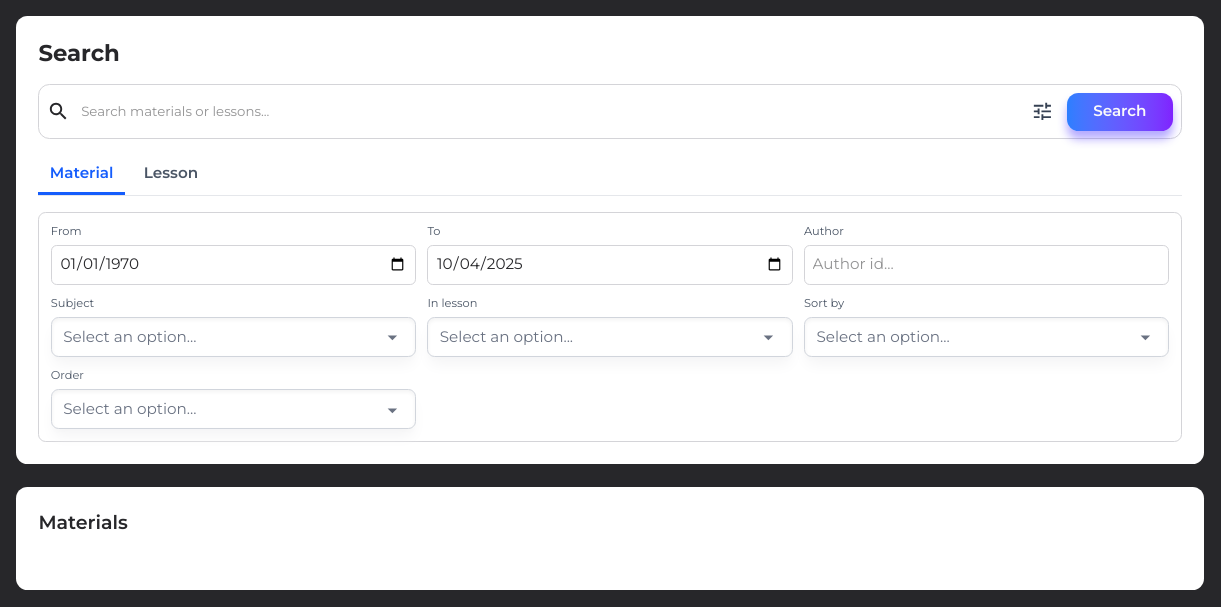
it: SearchPage Component › Filter Functionality › should toggle filters visibility
The image size is (1221, 607).
Check: the text "From" is shown, box [51,224,82,238]
Hide filters
Click the button named "toggle filters". click: [1042, 112]
box: [1025,94,1059,129]
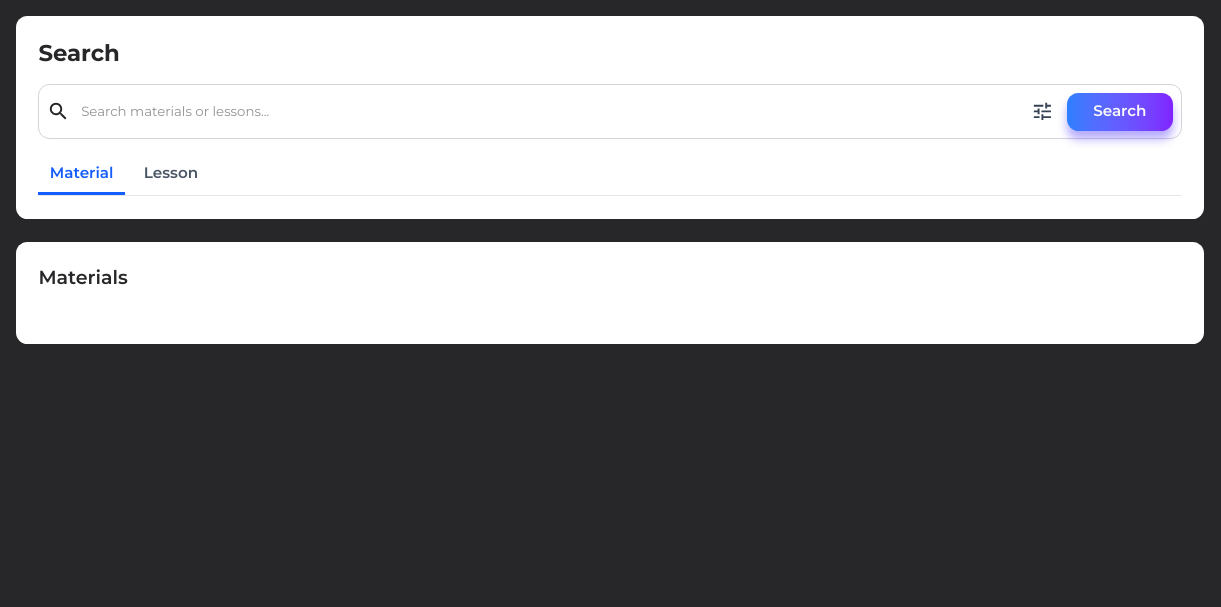
Check: the text "From" is gone
Show filters again
Click the button named "toggle filters". click: [1042, 112]
box: [1025,94,1059,129]
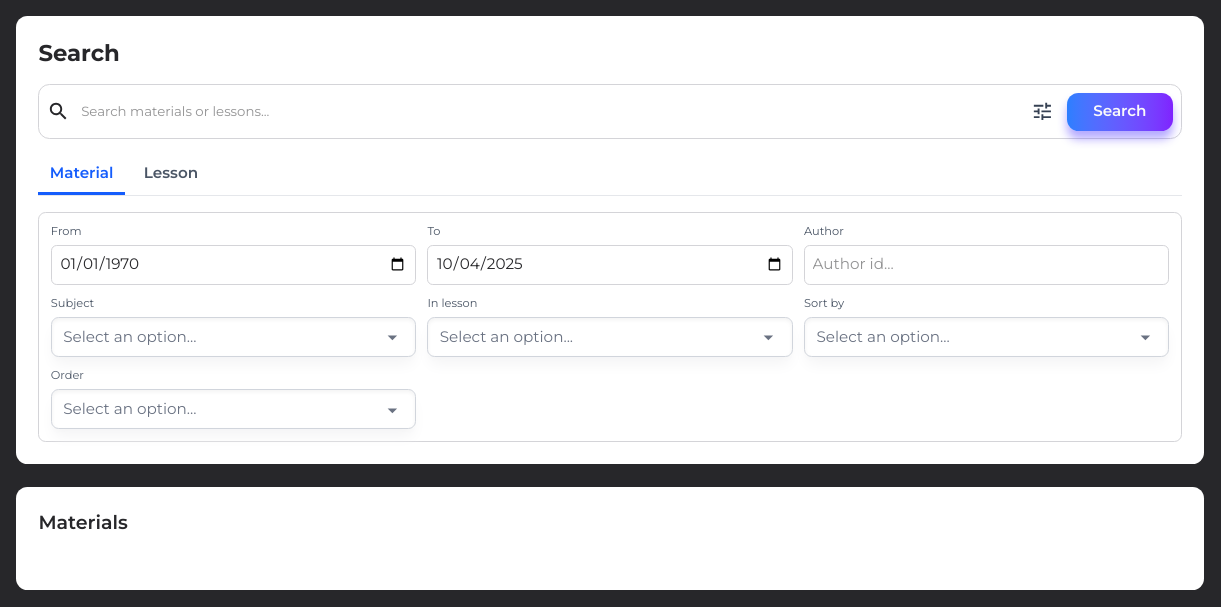
Check: the text "From" is shown, box [51,224,82,238]
